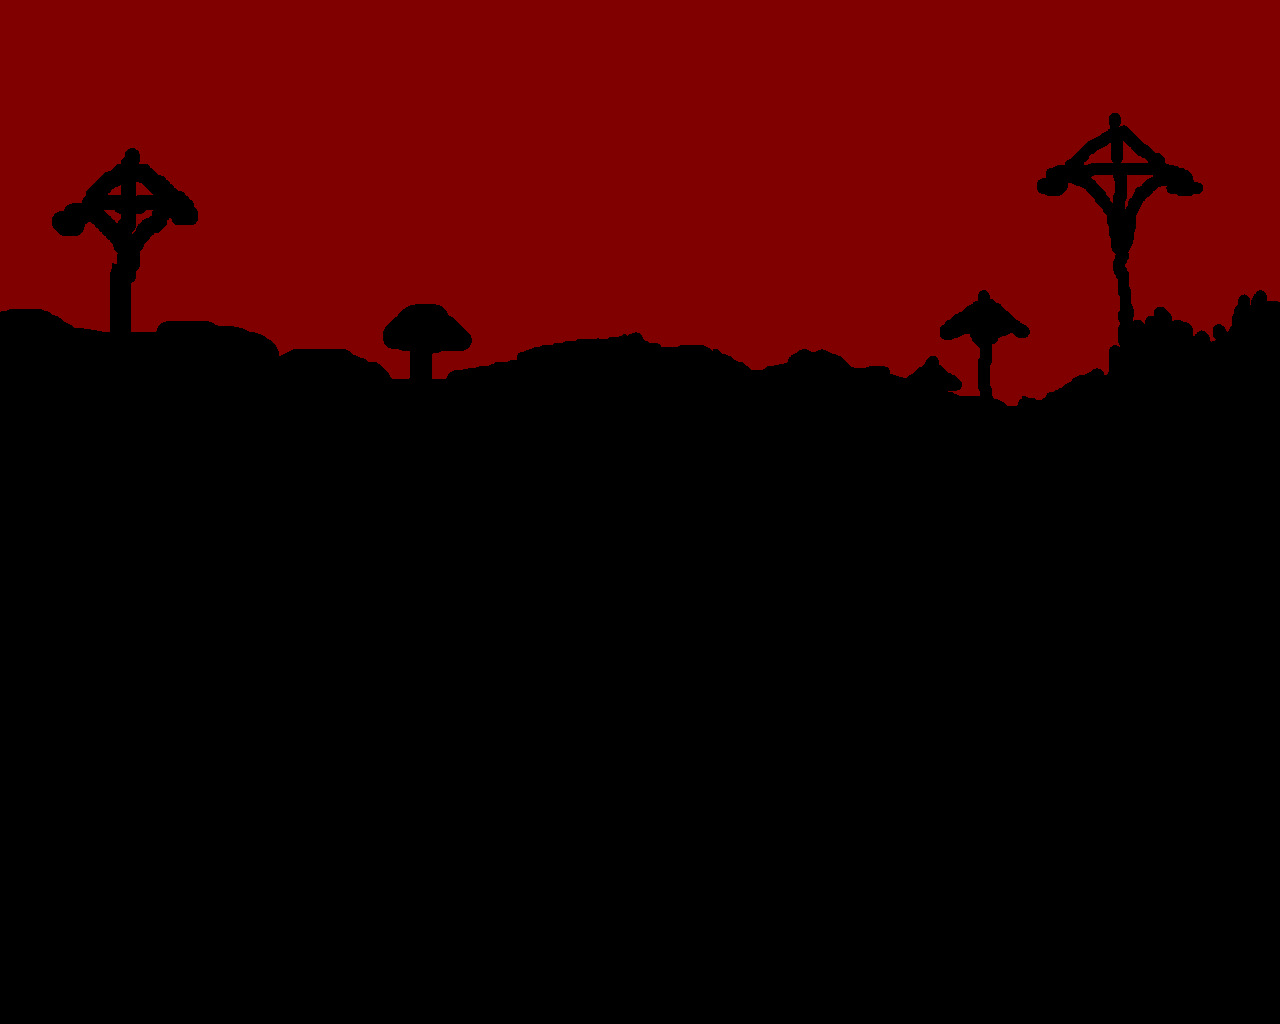Sky: (1, 1, 1279, 406)
